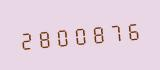eight: (35, 23, 52, 52), (89, 19, 106, 47)
seven: (107, 17, 124, 46)
six: (125, 16, 142, 44)
two: (17, 25, 34, 53)
zero: (71, 20, 88, 49), (53, 22, 70, 50)
